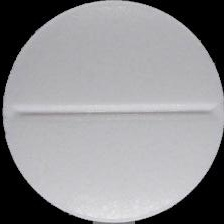58118-0429: (0, 0, 224, 224)
